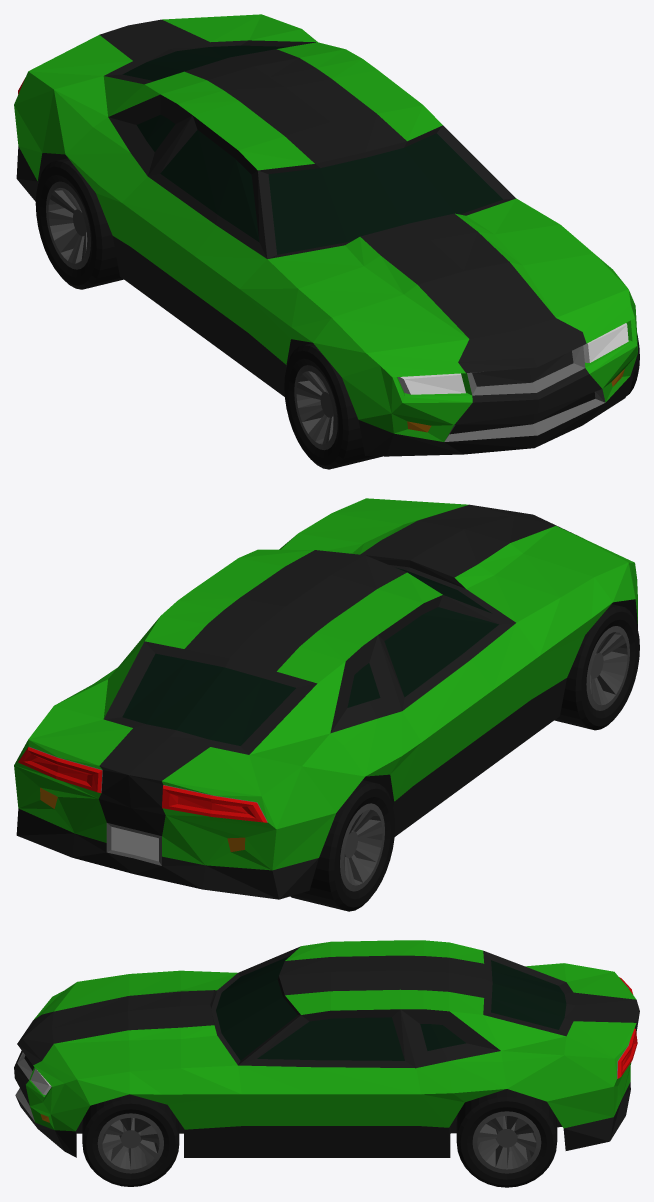
Rendered from low_poly_car.obj.
The picture shows the model from 3 angles, top to bottom: view 1: azimuth 30°, elevation 25°; view 2: azimuth 150°, elevation 25°; view 3: azimuth 270°, elevation 25°; orthographic projection. The views are drawn at different scales.
Visible parts, largest first — view 1: CarBody_Carcamero_ma_0, CarBody_Material028_0, CarBody_Material029_0, WRR_Material027_0, WFR_Material027_0, CarBody_Material032_0, WRR_Material031_0, WFR_Material031_0, CarBody_Material026_0; view 2: CarBody_Carcamero_ma_0, CarBody_Material028_0, CarBody_Material029_0, WRR_Material027_0, WFR_Material027_0, TailLight_Material030_0, WRR_Material031_0, WFR_Material031_0, CarBody_Material026_0, CarBody_Material032_0; view 3: CarBody_Carcamero_ma_0, CarBody_Material028_0, CarBody_Material029_0, WRL_Material027_0, WFL_Material027_0, WRL_Material031_0, WFL_Material031_0, TailLight_Material030_0, CarBody_Material032_0.
Part boxes in pixels (<box>): CarBody_Carcamero_ma_0: <box>14,14,637,441</box>; CarBody_Material028_0: <box>16,19,636,456</box>; CarBody_Material029_0: <box>122,45,502,254</box>; WRR_Material027_0: <box>35,158,123,289</box>; WFR_Material027_0: <box>284,343,382,469</box>; CarBody_Material032_0: <box>444,345,605,441</box>; WRR_Material031_0: <box>46,181,90,269</box>; WFR_Material031_0: <box>294,365,337,450</box>; CarBody_Material026_0: <box>397,323,628,394</box>; CarBody_Carcamero_ma_0: <box>14,498,637,870</box>; CarBody_Material028_0: <box>16,504,637,899</box>; CarBody_Material029_0: <box>122,567,498,745</box>; WRR_Material027_0: <box>290,780,395,911</box>; WFR_Material027_0: <box>554,604,639,730</box>; TailLight_Material030_0: <box>18,747,267,822</box>; WRR_Material031_0: <box>340,803,384,891</box>; WFR_Material031_0: <box>586,626,629,710</box>; CarBody_Material026_0: <box>111,826,158,861</box>; CarBody_Material032_0: <box>29,746,267,865</box>; CarBody_Carcamero_ma_0: <box>26,940,636,1131</box>; CarBody_Material028_0: <box>14,946,639,1157</box>; CarBody_Material029_0: <box>216,956,566,1060</box>; WRL_Material027_0: <box>456,1089,557,1187</box>; WFL_Material027_0: <box>82,1094,179,1186</box>; WRL_Material031_0: <box>472,1111,541,1173</box>; WFL_Material031_0: <box>97,1113,163,1173</box>; TailLight_Material030_0: <box>617,977,637,1078</box>; CarBody_Material032_0: <box>15,983,629,1121</box>.
Size of the model in its own units: 359 by 242 by 845.
